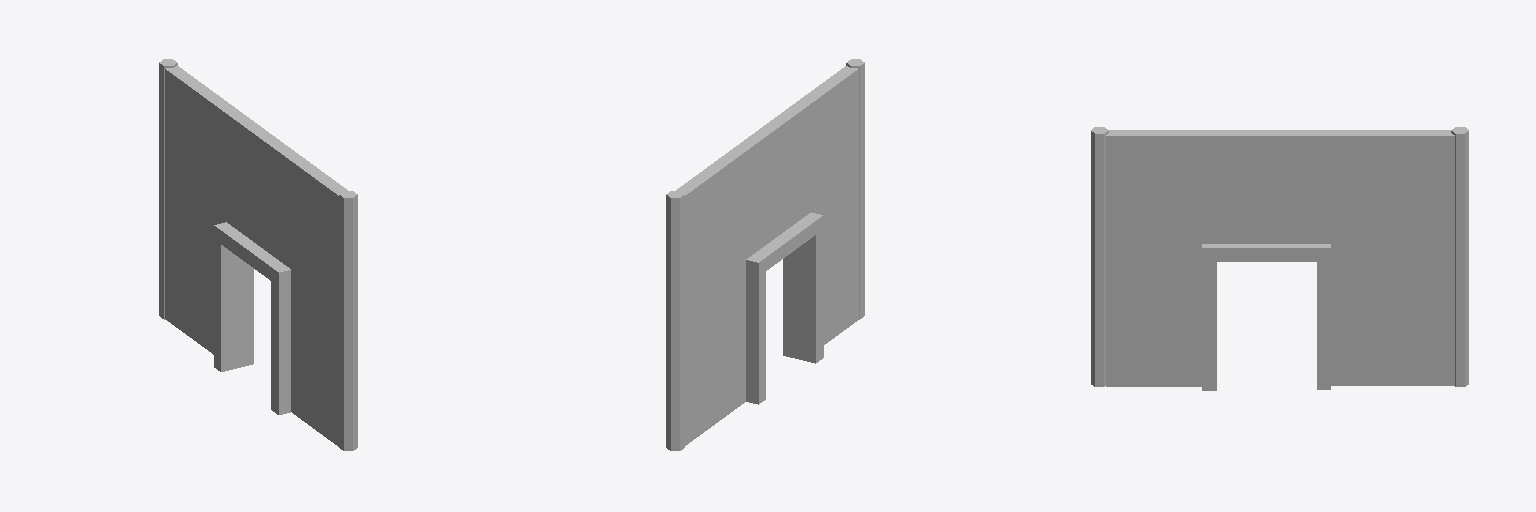
File: low_poly_doorway.obj
The picture shows the model from 3 angles: view 1: azimuth 30°, elevation 25°; view 2: azimuth 150°, elevation 25°; view 3: azimuth 270°, elevation 25°; orthographic projection.
Parts seen in each view (by area): view 1: Cube_Cube.010, Cylinder, Cylinder.001; view 2: Cube_Cube.010, Cylinder.001, Cylinder; view 3: Cube_Cube.010, Cylinder, Cylinder.001.
Part boxes in pixels (x1,y1,x2,y2): Cube_Cube.010: (165,66,347,446); Cylinder: (339,191,357,450); Cylinder.001: (159,59,177,319); Cube_Cube.010: (676,66,858,445); Cylinder.001: (666,191,684,450); Cylinder: (846,59,864,319); Cube_Cube.010: (1106,130,1454,390); Cylinder: (1091,127,1108,386); Cylinder.001: (1451,127,1468,386).
Bounding box in the file's own units: 1.47 × 10.89 × 14.74.